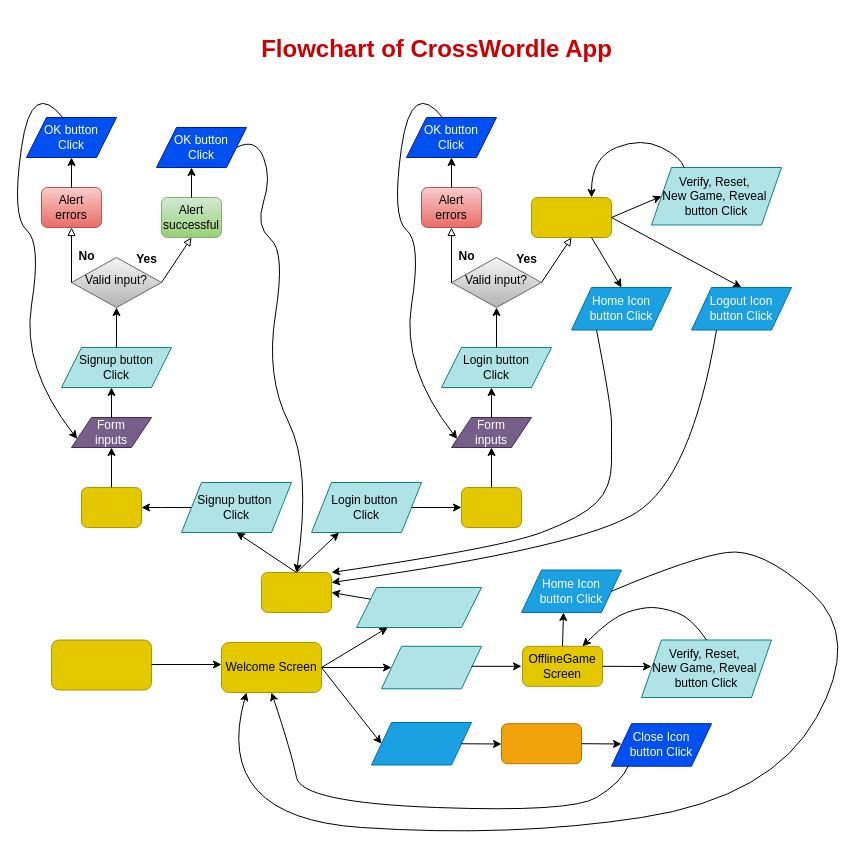
Image size: 856x848. Some labels were removed from this diagram. Here are the shapes that lost their labels. From the top down, the centre of each, then its label:
the point at 571,217: OnlineGame Screen
the point at 111,507: Signup Screen
the point at 491,507: Login Screen
the point at 296,592: Online Mode Screen
the point at 419,607: Online button Click
the point at 101,664: Splash Screen
the point at 431,667: Offline button Click
the point at 421,743: Info Icon button Click
the point at 541,743: Instruction Modal Screen
